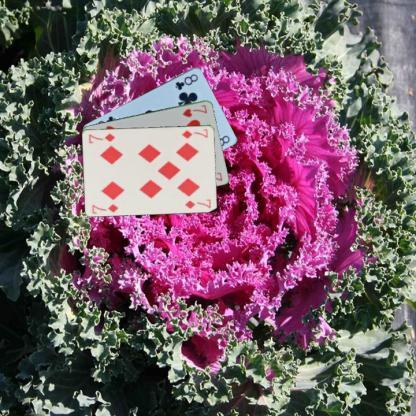7d: (180, 126, 210, 140), (90, 202, 119, 214)
7h: (180, 102, 208, 118)
8c: (173, 71, 199, 91)
